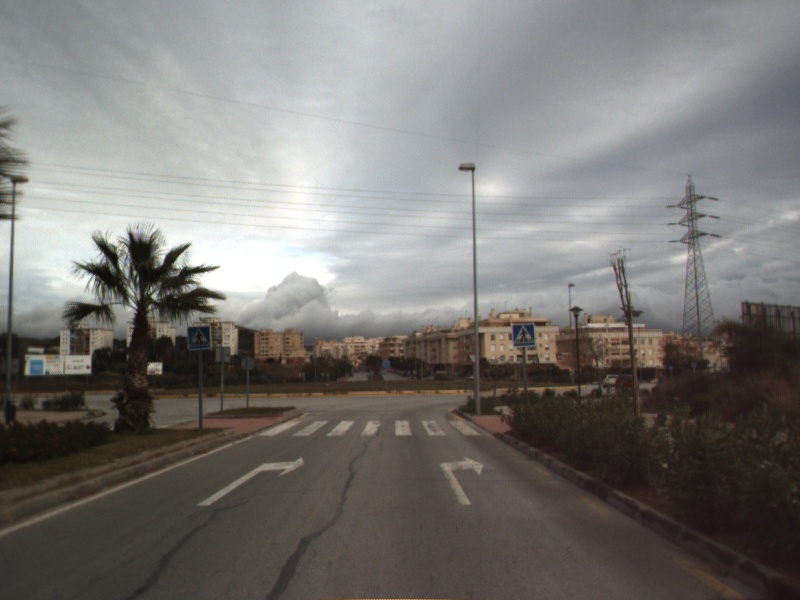RIGHT: (195, 455, 307, 508), (437, 454, 486, 507)
